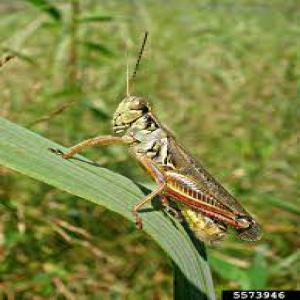locust: (85, 52, 266, 235)
